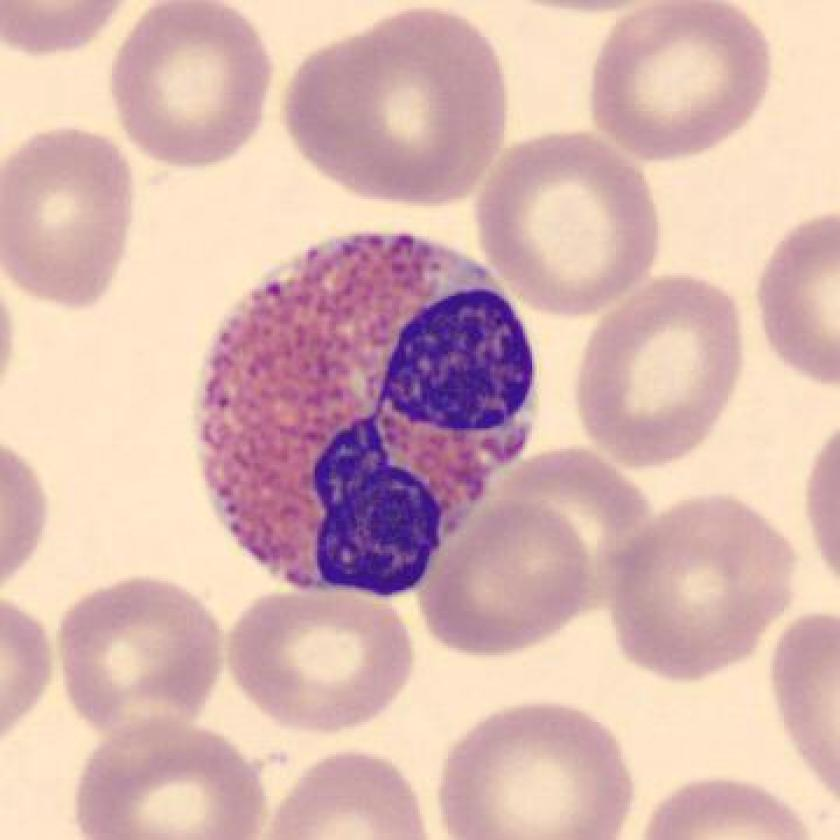eosinophil: (181, 218, 549, 612)
